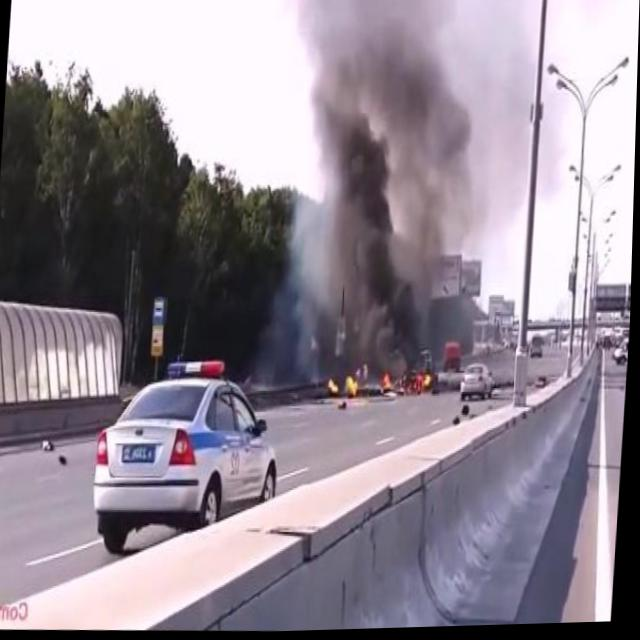fire: (382, 364, 437, 399), (327, 371, 364, 402)
